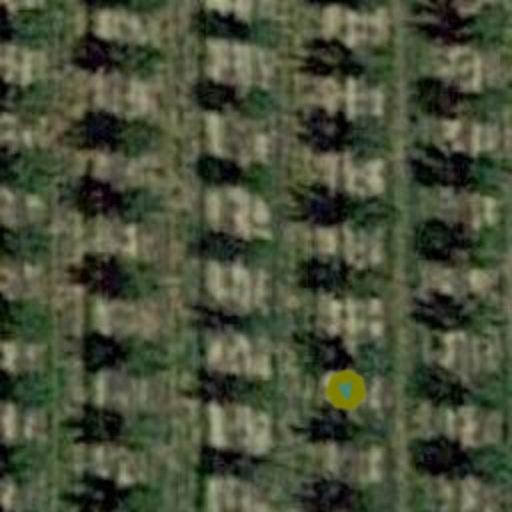heptagon: (320, 364, 372, 416)
